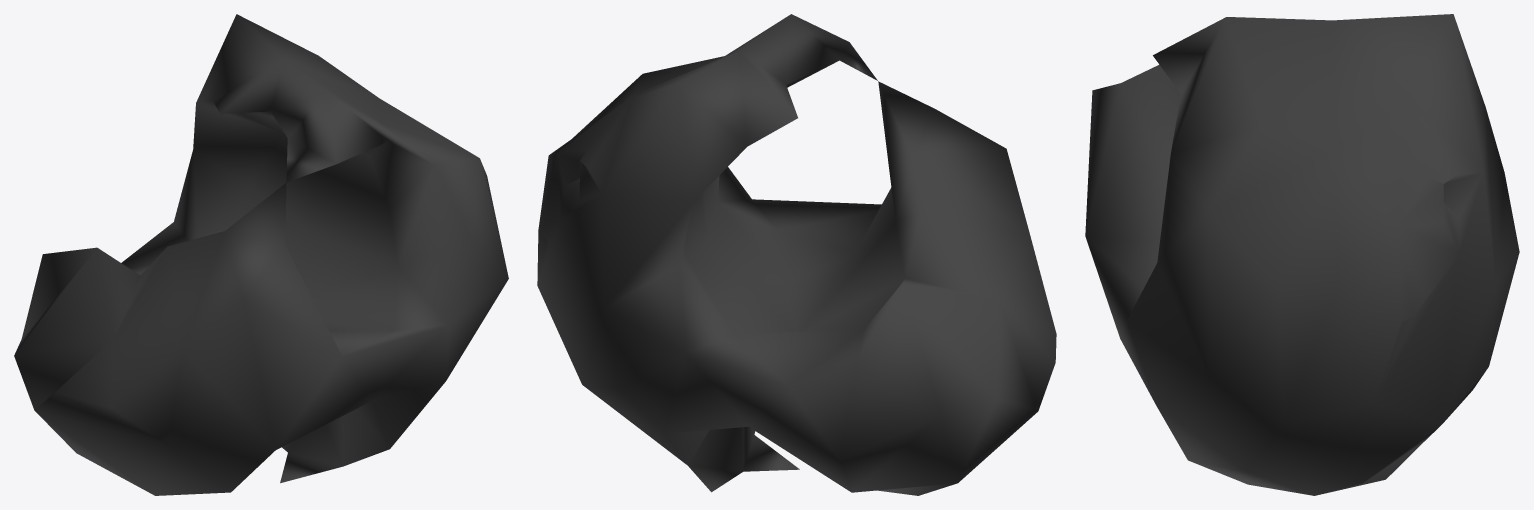
File: cavern-1.glb
3 views of the same model, side by side, from view 1: azimuth 30°, elevation 25°; view 2: azimuth 150°, elevation 25°; view 3: azimuth 270°, elevation 25° (orthographic). The views are drawn at different scales.
Visible parts, largest first — view 1: geometry_0; view 2: geometry_0; view 3: geometry_0.
Boxes of the visible parts, left/top/right/bottom form: geometry_0: left=14, top=14, right=508, bottom=495; geometry_0: left=537, top=14, right=1056, bottom=495; geometry_0: left=1085, top=14, right=1519, bottom=495.
Bounding box in the file's own units: 1.14 × 1 × 0.8315.
1 material, 1 textured.
